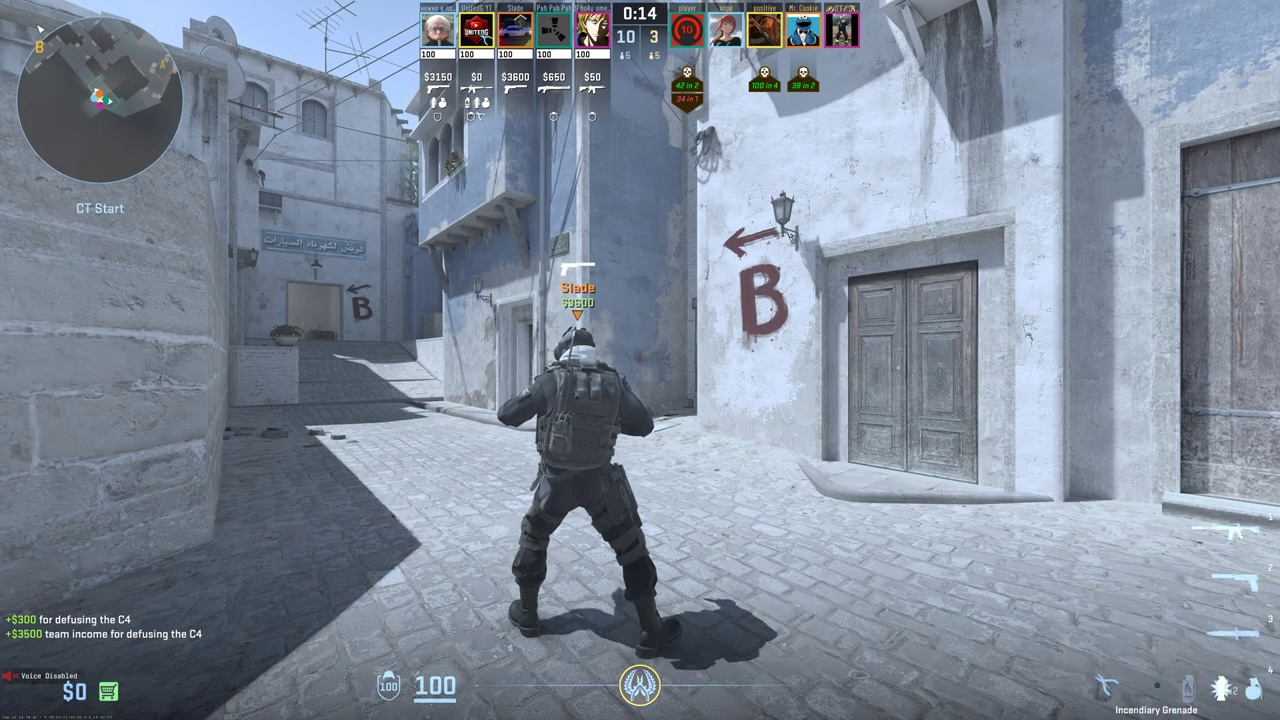CT: (513, 326, 661, 644)
